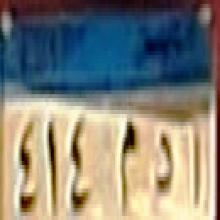1: (42, 118, 61, 216)
4: (66, 106, 92, 216), (15, 119, 38, 220)
alif: (185, 112, 206, 206)
daal: (151, 128, 176, 206)
meem: (112, 117, 141, 207)
